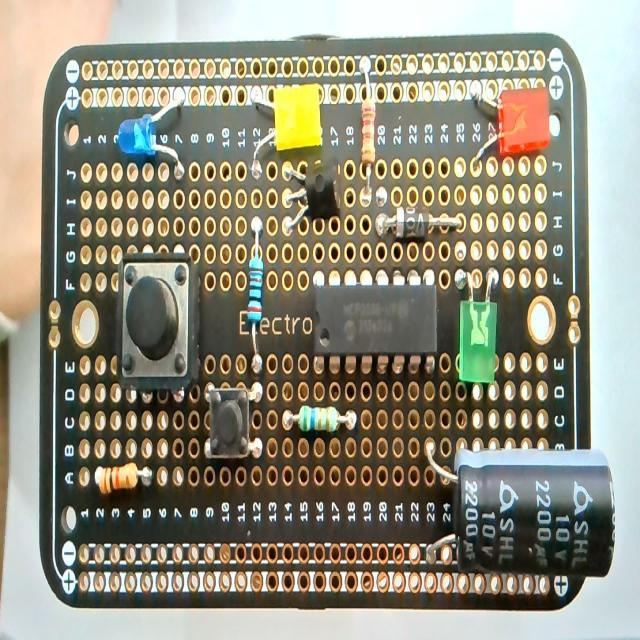Electrolytic capacitor: (423, 433, 621, 581)
IC: (307, 281, 439, 358)
diode: (377, 207, 463, 239)
led: (472, 86, 550, 166), (250, 81, 326, 158), (116, 96, 187, 178), (455, 268, 501, 384)
resistor: (246, 210, 268, 378), (94, 457, 156, 501), (359, 58, 377, 202), (284, 406, 354, 432)
switch: (116, 252, 198, 387), (205, 380, 262, 473)
transistor: (280, 164, 344, 232)
